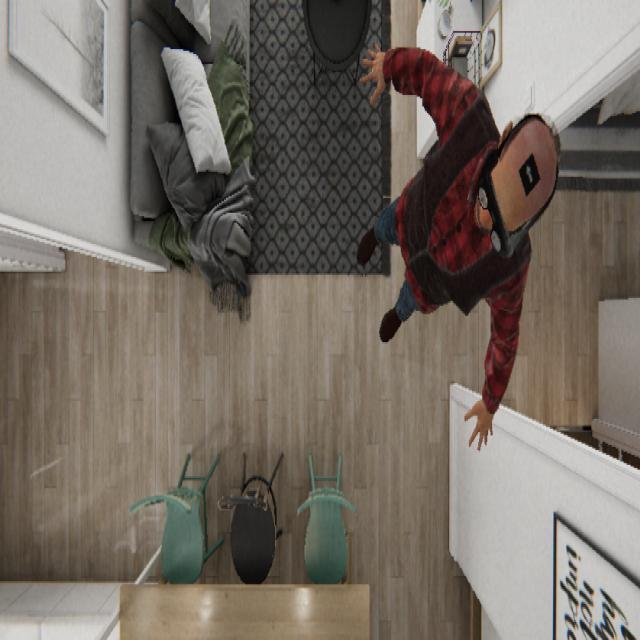Human: (355, 41, 561, 450)
UnityLogo: (517, 149, 541, 196)
